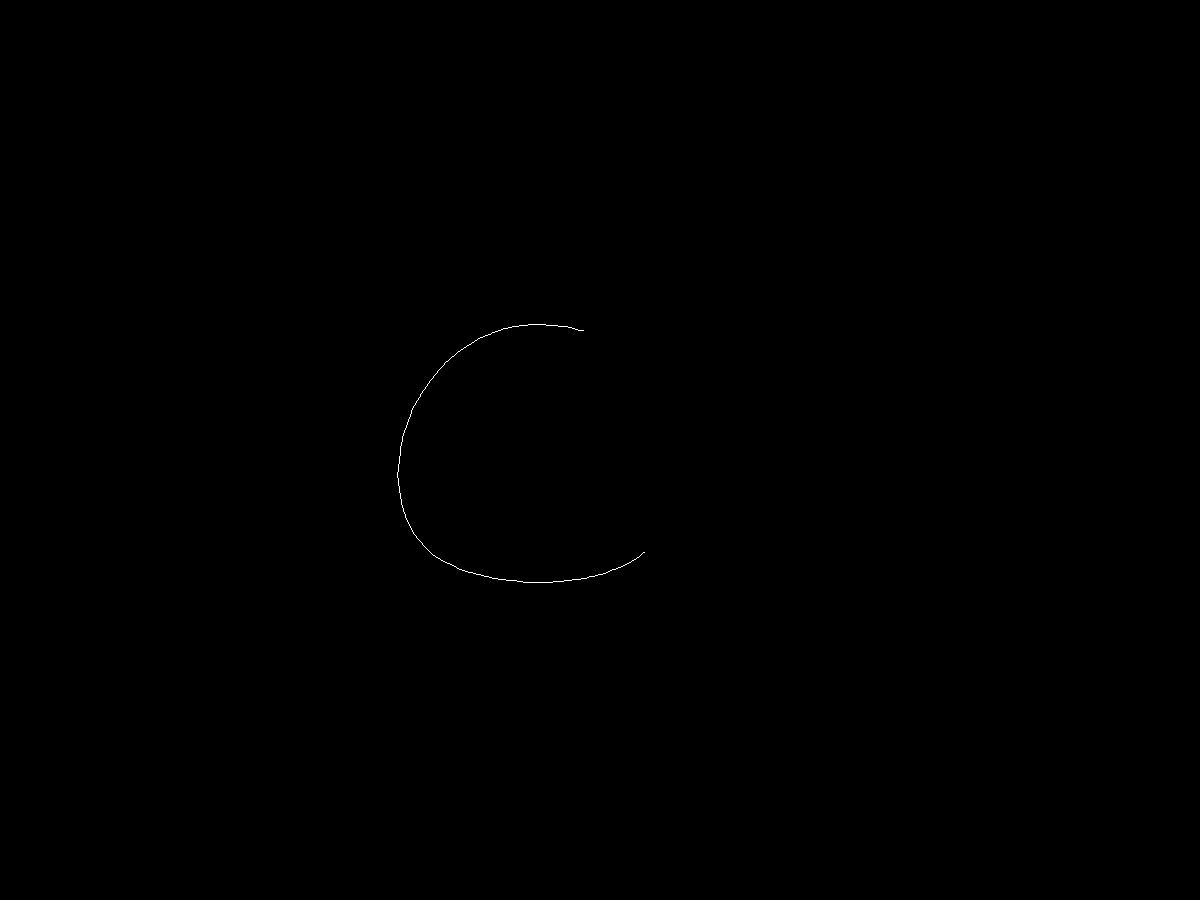dian1: (574, 316, 599, 336)
dian2: (638, 541, 656, 564)
